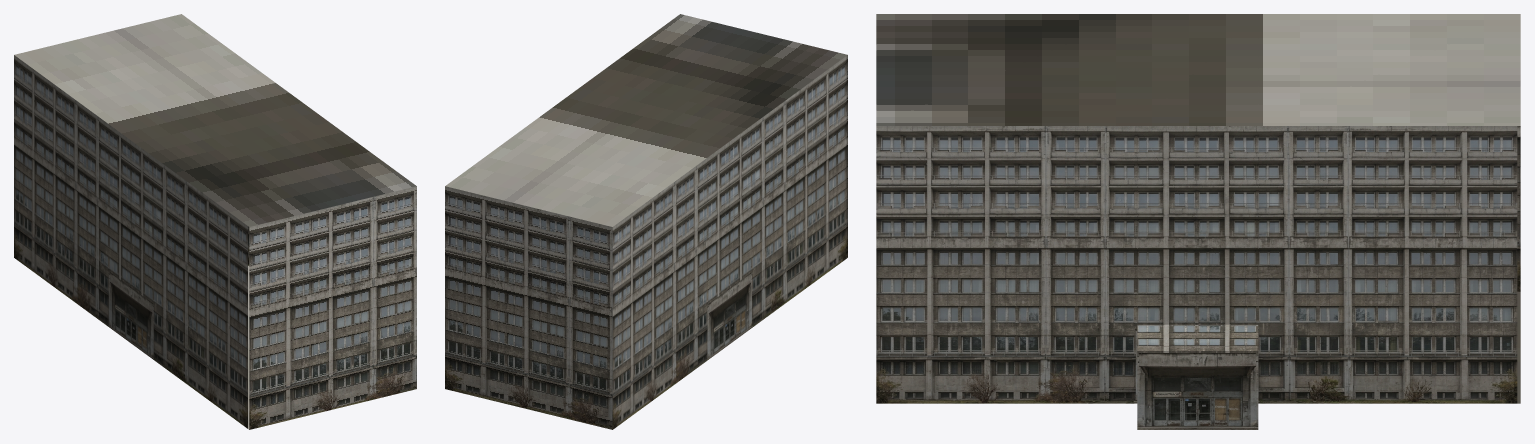
File: office.gltf
3 renders of one model, left to right at view 1: azimuth 30°, elevation 25°; view 2: azimuth 150°, elevation 25°; view 3: azimuth 270°, elevation 25°, orthographic. The views are drawn at different scales.
Parts seen in each view (by area): view 1: mesh; view 2: mesh; view 3: mesh.
Part boxes in pixels (x1=…): mesh: x1=14, y1=14, x2=416, y2=429; mesh: x1=445, y1=14, x2=847, y2=429; mesh: x1=876, y1=14, x2=1520, y2=429.
Size of the model in its own units: 7.88 by 7.38 by 15.5.
Materials: 1 (1 with a texture image).
